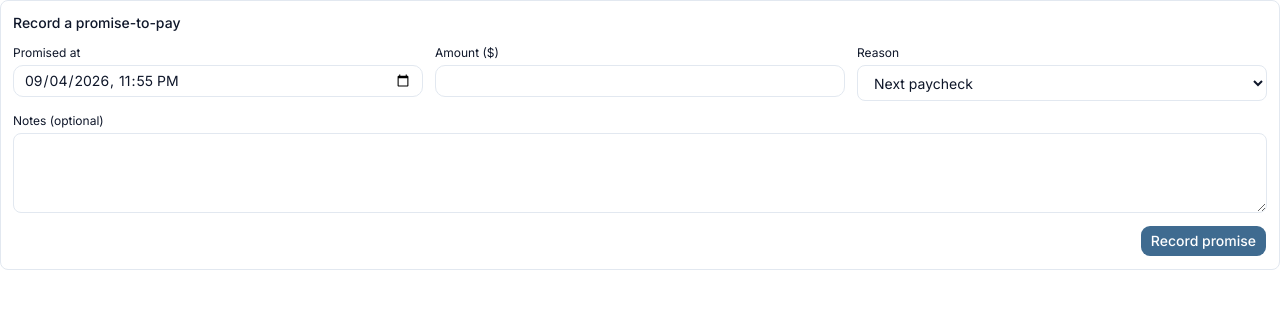
Test: RecordPromiseToPayForm › surfaces a backend 400 as a human-readable error
Step 1. Type "50" into the number field with test id "record-ptp-amount" → (640, 81), box x1=435 y1=65 x2=845 y2=97
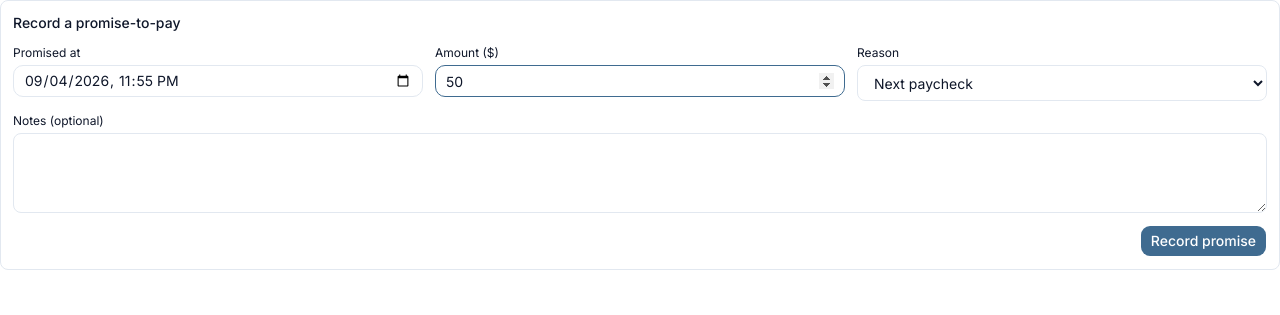
Step 2. Click the button with test id "record-ptp-submit" → click(1203, 241), box x1=1140 y1=225 x2=1267 y2=257
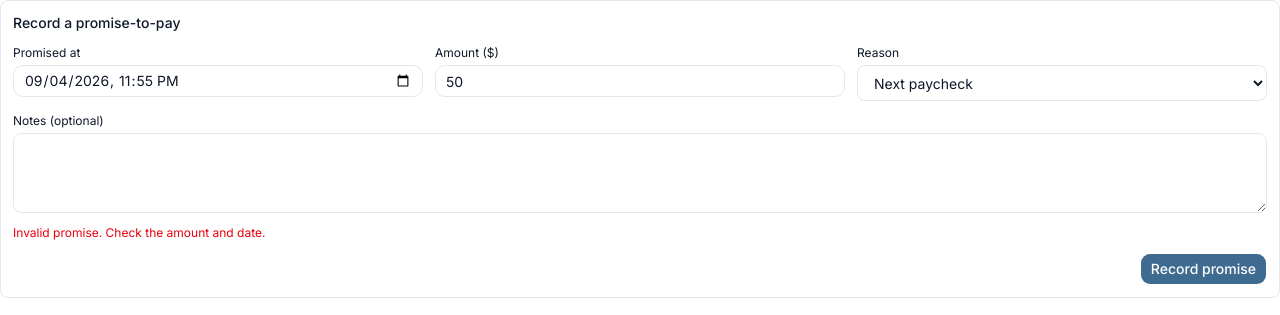
Now the text with test id "record-ptp-error" shows "Invalid", box x1=13 y1=225 x2=265 y2=240
